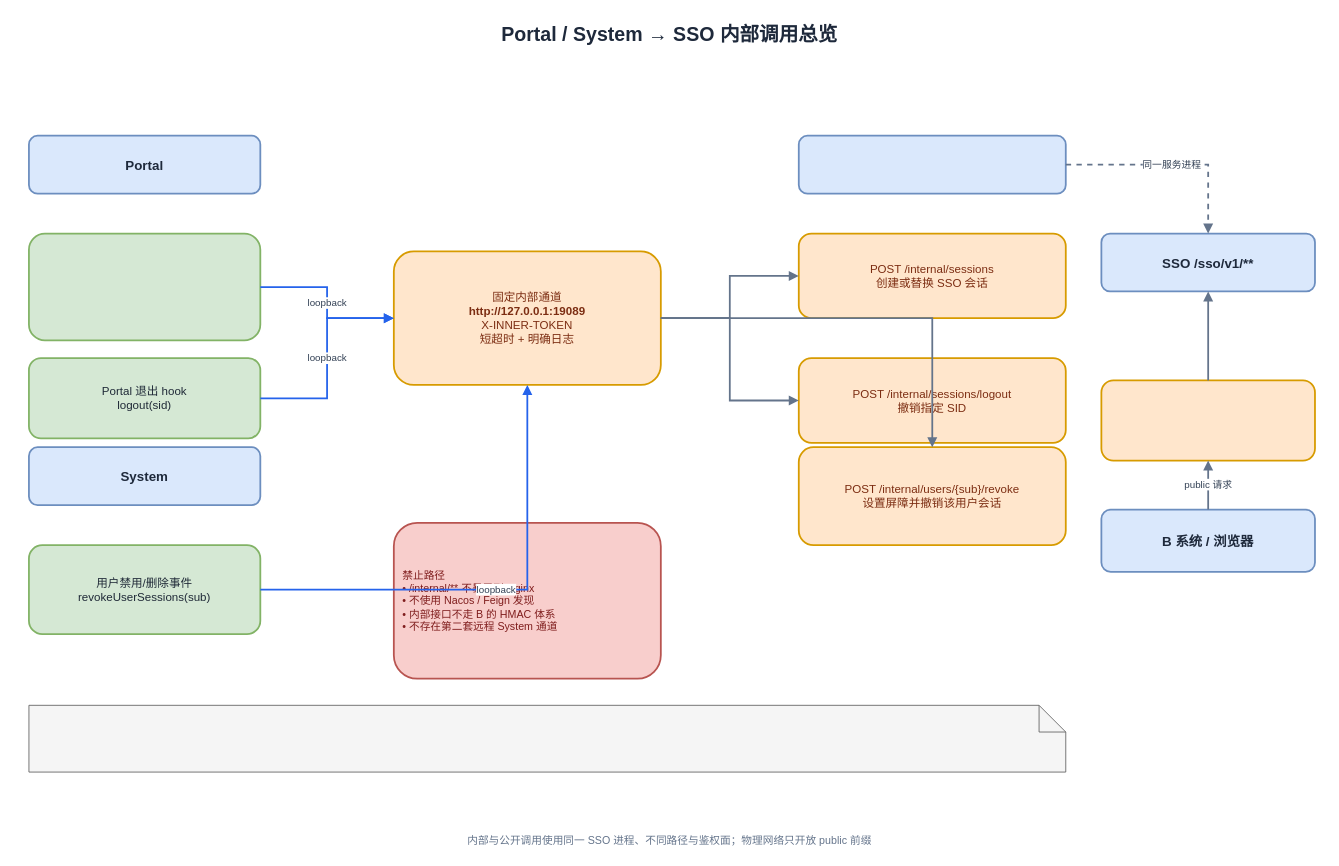
Image size: 1339x866. Some labels were removed from this diagram. Each missing label, with the centre of its shape:
"Nginx :10089 只代理 /sso/v1/**" goes at [1207,420].
"Portal hook 异常：记日志，本地登录/退出继续 System 撤销事件：按租约重试直至完成" goes at [547,738].
"SSO /internal/**" goes at [931,164].
"登录成功 hook beginSession sub / username / old_sid? / pending?" goes at [144,286].
